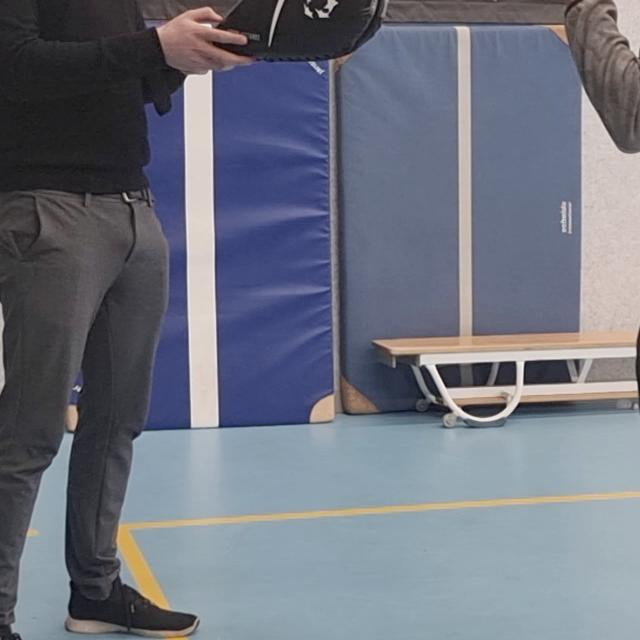paddle: (212, 0, 390, 59)
